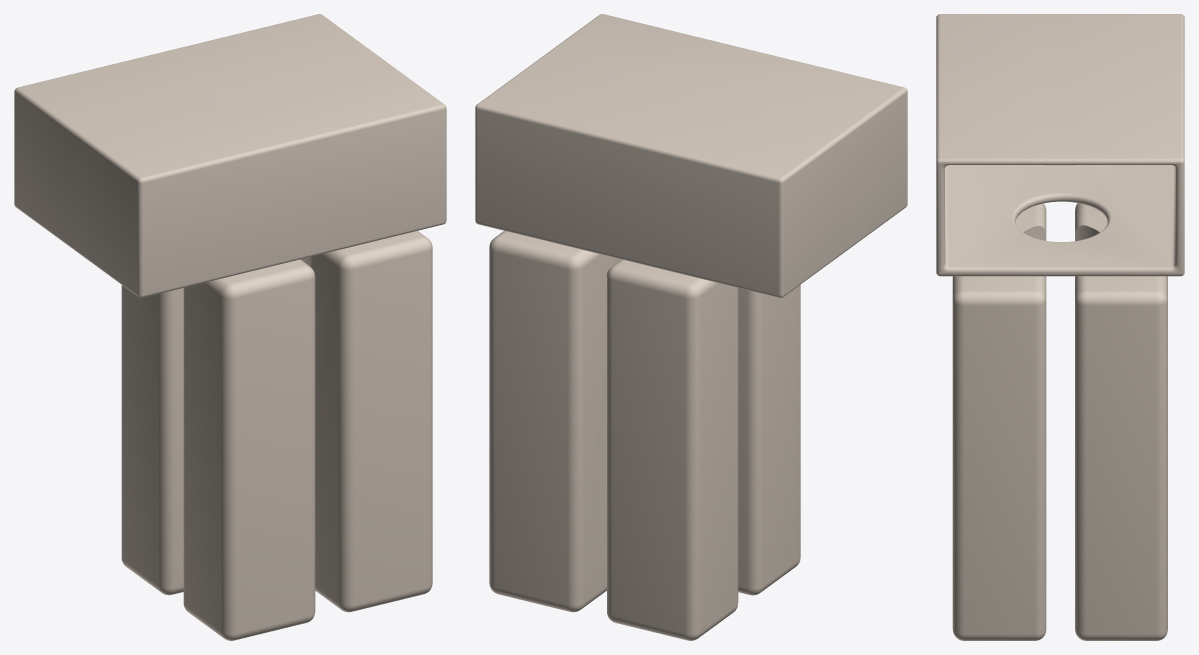
File: room4.glb
3 views of the same model, side by side, from view 1: azimuth 30°, elevation 25°; view 2: azimuth 150°, elevation 25°; view 3: azimuth 270°, elevation 25° (orthographic). The views are drawn at different scales.
Visible parts, largest first — view 1: columns, room; view 2: columns, room; view 3: columns, room.
Boxes of the visible parts, x1,y1,x2,y2 form: columns: (121,231,432,640); room: (14,14,446,297); columns: (489,230,800,640); room: (475,14,907,297); columns: (952,203,1167,640); room: (936,14,1184,276).
Bounding box in the file's own units: 6.88 × 10.58 × 4.91.
1 material, 1 textured.
